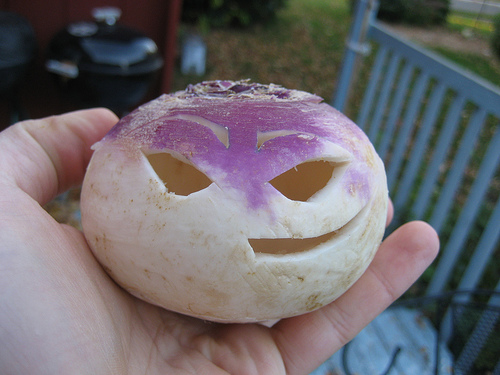turnip: (80, 76, 386, 327)
